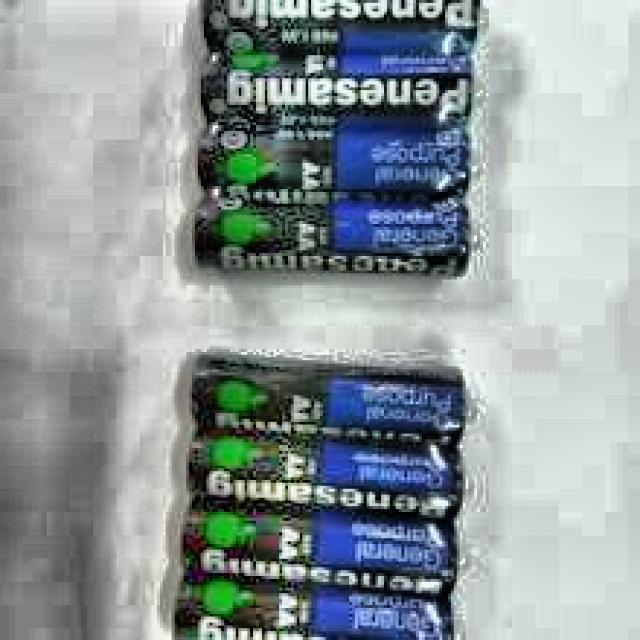battery: (176, 356, 461, 639), (199, 0, 479, 273)
